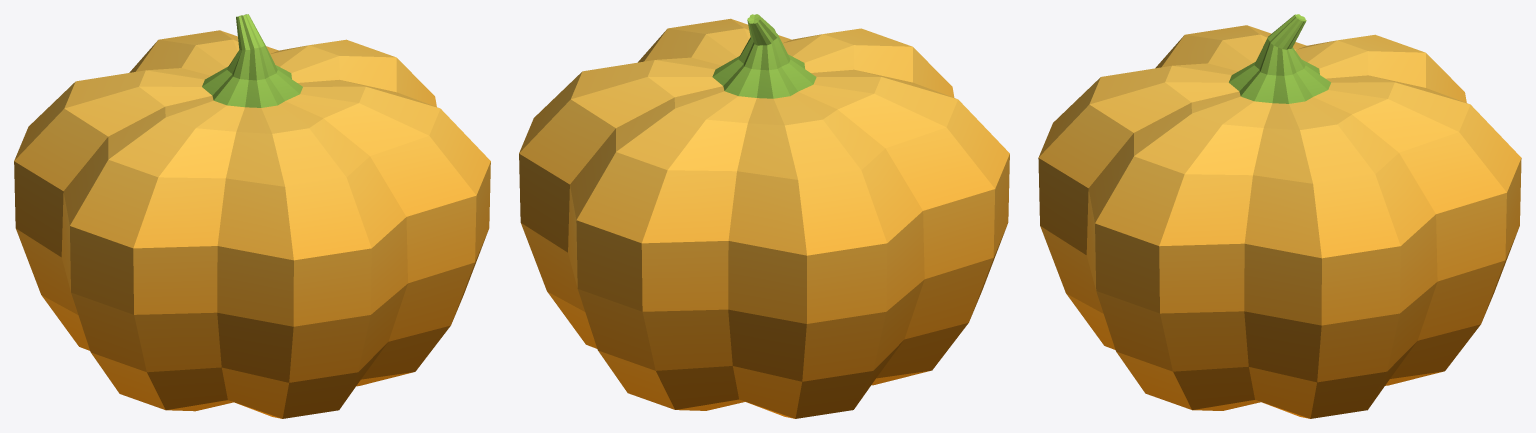
The model's file is pumpkin.fbx.
3 views of the same model, side by side, from view 1: azimuth 30°, elevation 25°; view 2: azimuth 150°, elevation 25°; view 3: azimuth 270°, elevation 25° (orthographic). The views are drawn at different scales.
Visible parts, largest first — view 1: pumpkin; view 2: pumpkin; view 3: pumpkin.
Boxes of the visible parts, x1,y1,x2,y2 form: pumpkin: [14, 14, 490, 418]; pumpkin: [519, 14, 1009, 418]; pumpkin: [1038, 14, 1521, 418].
Bounding box in the file's own units: 64.58 × 53.02 × 65.58.
